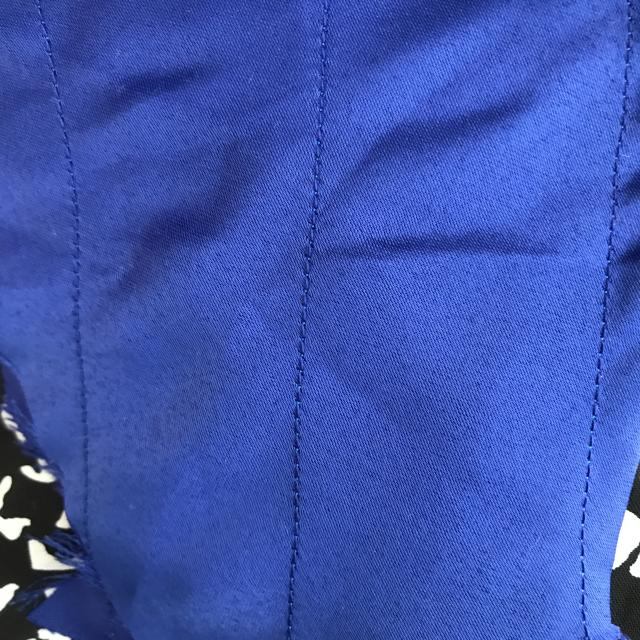good: (267, 459, 320, 602), (276, 276, 326, 425), (573, 442, 609, 574), (586, 269, 622, 401)
